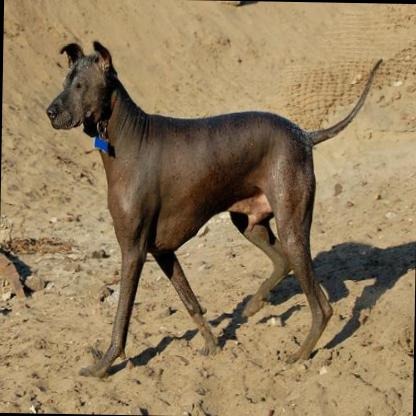Mexican_hairless: (39, 37, 380, 378)
